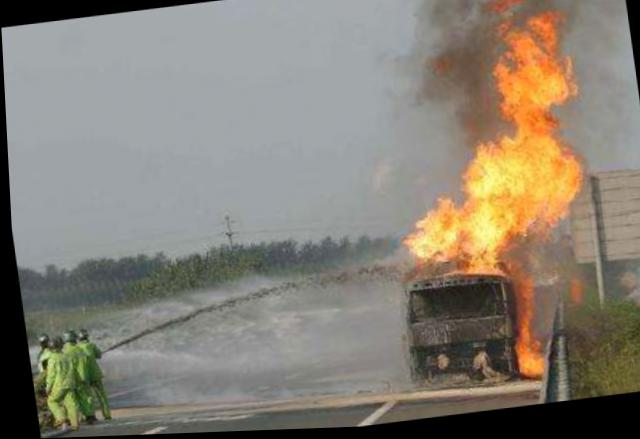fire: (367, 0, 611, 392)
